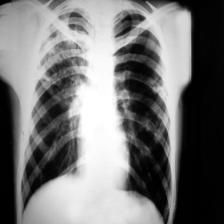tuberculosis: (15, 0, 176, 224)
